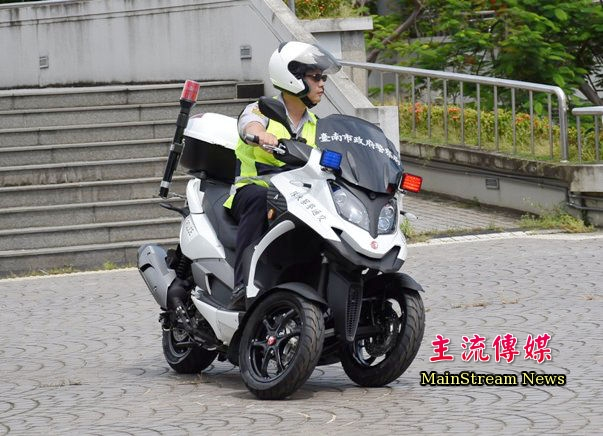helmet: (264, 38, 334, 99)
